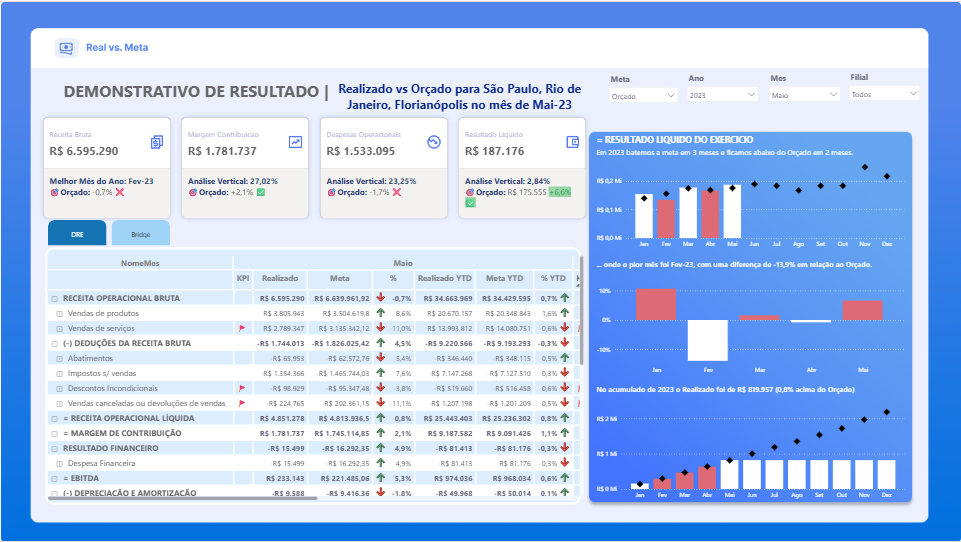

What the dashboard file says about the page in this screenshot:
{"tool":"powerbi","page":{"name":"DRE","canvas":[1920,1080],"ordinal":0},"visuals":[{"type":"pivotTable","fields":{"Rows":["dEstruturaDRE.contaGerencial","dPlanoConta.descricaoN1","dPlanoConta.descricaoN2"],"Values":["MEDIDAS.KPI Flag","MEDIDAS.Realizado","MEDIDAS.R$ Meta","MEDIDAS.% Meta vs Realizado","MEDIDAS.Realizado YTD","MEDIDAS.Meta YTD","MEDIDAS.% Meta vs Realizado YTD"],"Columns":["dCalendario.NomeMes"]},"box":[87.2,502.1,1083,500],"z":0},{"type":"slicer","fields":{"Values":["dCalendario.AnoAtual"]},"box":[1362.5,135,162.5,80],"z":1000},{"type":"slicer","fields":{"Values":["dCalendario.MesAtual"]},"box":[1525,135,162.5,85],"z":2000},{"type":"slicer","fields":{"Values":["dEstruturaDRE.empresa"]},"box":[1686.7,133.9,162.2,82.2],"z":3000},{"type":"slicer","fields":{"Values":["AuxMeta.AuxMeta"]},"box":[1205,137.5,157.5,82.5],"z":4000},{"type":"cardVisual","fields":{"Data":["MEDIDAS.R$ Realizado RC Bruta","MEDIDAS.R$ Realizado Margem Contribuicao","MEDIDAS.R$ Realizado Despesas","MEDIDAS.Realizado"]},"box":[68.3,213.3,1118.3,235],"z":5000},{"type":"lineStackedColumnComboChart","fields":{"Y":["MEDIDAS.Realizado"],"Category":["dCalendario.MesAbre"],"Y2":["MEDIDAS.R$ Meta"]},"box":[1186.2,262.5,626.2,240],"z":6000},{"type":"lineStackedColumnComboChart","fields":{"Category":["dCalendario.MesAbre"],"Y":["MEDIDAS.% Meta vs Realizado"]},"box":[1185,513.1,626.2,240],"z":7000},{"type":"lineStackedColumnComboChart","fields":{"Category":["dCalendario.MesAbre"],"Y":["MEDIDAS.Realizado YTD"],"Y2":["MEDIDAS.Meta YTD"]},"box":[1185,763.8,626.2,240],"z":8000},{"type":"textbox","box":[120,150,558,66],"z":9000},{"type":"actionButton","box":[663.3,135,506.7,101.7],"z":10000},{"type":"bookmarkNavigator","box":[93.3,436.7,245,51.7],"z":11001}]}

Visuals, with their boxes in screenshot pixels (x1, y1, x2, y2), scaled from the page's 1920x1080 canvas onto the 961x542 screenshot:
pivotTable - dEstruturaDRE.contaGerencial x dPlanoConta.descricaoN1: 44/252/586/503
slicer - dCalendario.AnoAtual: 682/68/763/108
slicer - dCalendario.MesAtual: 763/68/845/110
slicer - dEstruturaDRE.empresa: 844/67/925/108
slicer - AuxMeta.AuxMeta: 603/69/682/110
cardVisual - MEDIDAS.R$ Realizado RC Bruta x MEDIDAS.R$ Realizado Margem Contribuicao: 34/107/594/225
lineStackedColumnComboChart - MEDIDAS.Realizado x dCalendario.MesAbre: 594/132/907/252
lineStackedColumnComboChart - dCalendario.MesAbre x MEDIDAS.% Meta vs Realizado: 593/258/907/378
lineStackedColumnComboChart - dCalendario.MesAbre x MEDIDAS.Realizado YTD: 593/383/907/504
textbox: 60/75/339/108
actionButton: 332/68/586/119
bookmarkNavigator: 47/219/169/245
